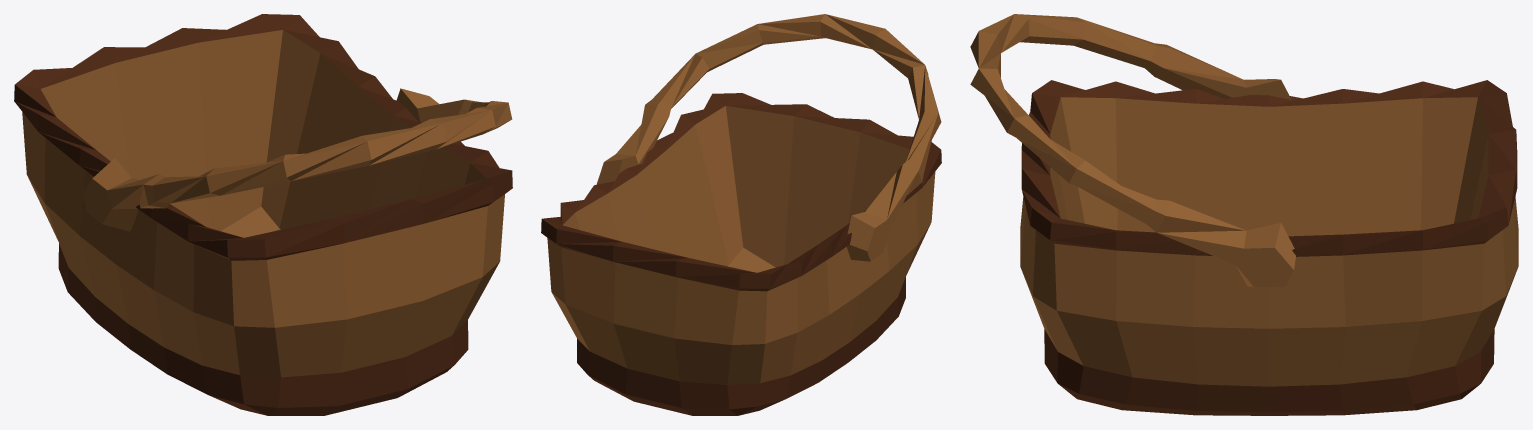
The model's file is Basket.fbx.
3 renders of one model, left to right at view 1: azimuth 30°, elevation 25°; view 2: azimuth 150°, elevation 25°; view 3: azimuth 270°, elevation 25°, orthographic. The views are drawn at different scales.
Visible parts, largest first — view 1: Basket; view 2: Basket; view 3: Basket.
Boxes of the visible parts, <box> form: Basket: <box>14,14,512,415</box>; Basket: <box>541,14,941,415</box>; Basket: <box>970,14,1518,415</box>.
Bounding box in the file's own units: 27.31 × 24.5 × 37.12.
Materials: 1 (1 with a texture image).
